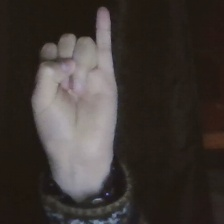I: (23, 1, 129, 164)
